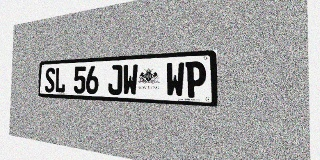5: (74, 66, 86, 94)
6: (86, 66, 99, 94)
J: (108, 65, 122, 95)
L: (55, 67, 66, 93)
P: (185, 61, 206, 98)
S: (45, 68, 55, 93)
W: (166, 62, 185, 97), (122, 64, 138, 96)
